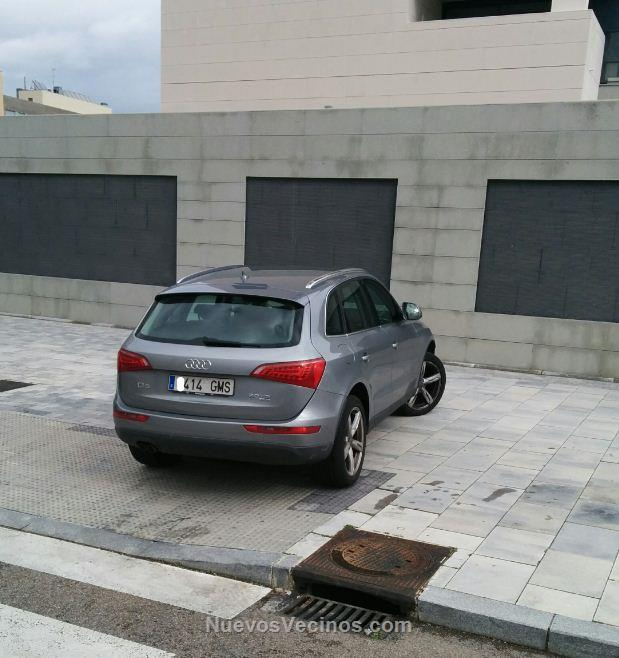car: (104, 259, 453, 482)
